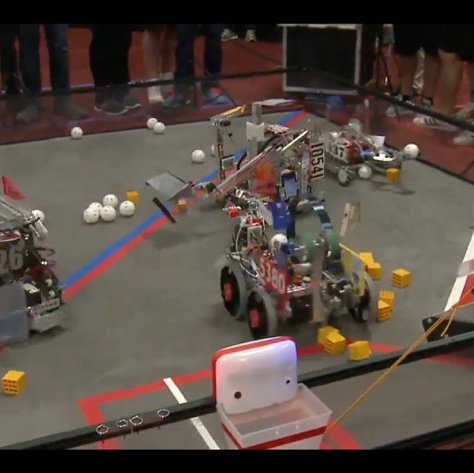robot: (216, 202, 384, 343), (149, 99, 319, 225), (0, 173, 70, 351), (318, 115, 404, 182)
